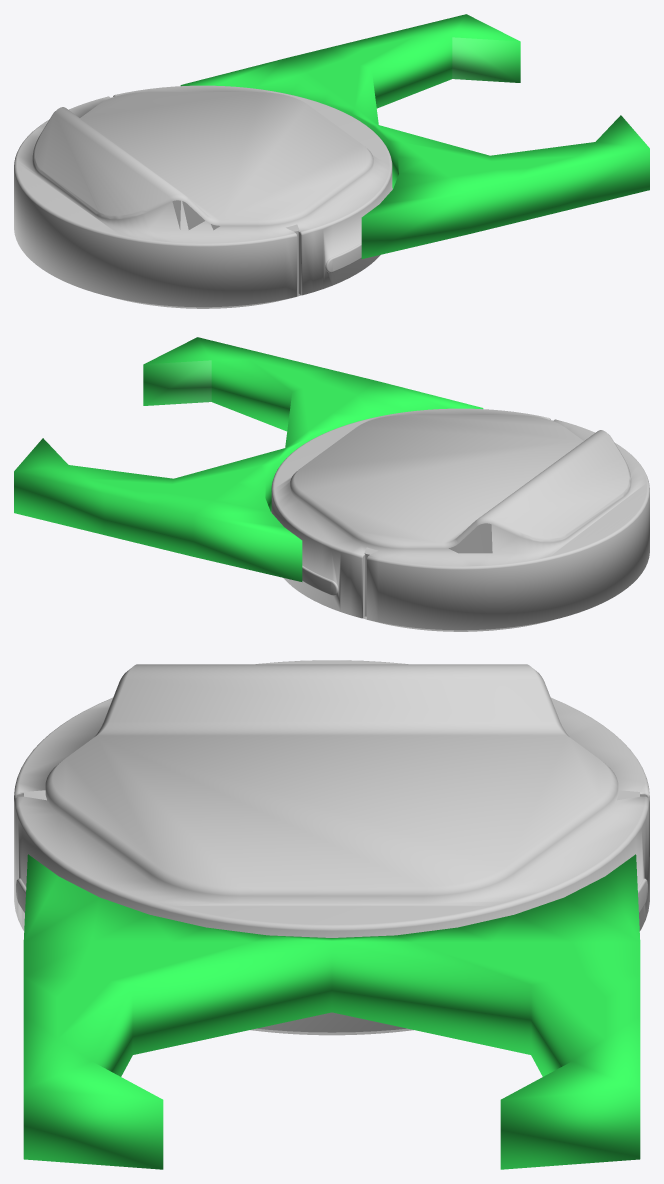
Rendered from turtle_pusher_collision.dae.
3 renders of one model, top to bottom at view 1: azimuth 30°, elevation 25°; view 2: azimuth 150°, elevation 25°; view 3: azimuth 270°, elevation 25°, orthographic. The views are drawn at different scales.
Visible parts, largest first — view 1: main_body, Circle; view 2: main_body, Circle; view 3: main_body, Circle.
Part boxes in pixels (x1,y1,x2,y2): main_body: [14, 85, 392, 308]; Circle: [180, 14, 649, 258]; main_body: [271, 408, 649, 631]; Circle: [14, 337, 483, 581]; main_body: [14, 660, 649, 1035]; Circle: [23, 854, 640, 1169].
Size of the model in its own units: 0.5672 by 0.35 by 0.1243.
